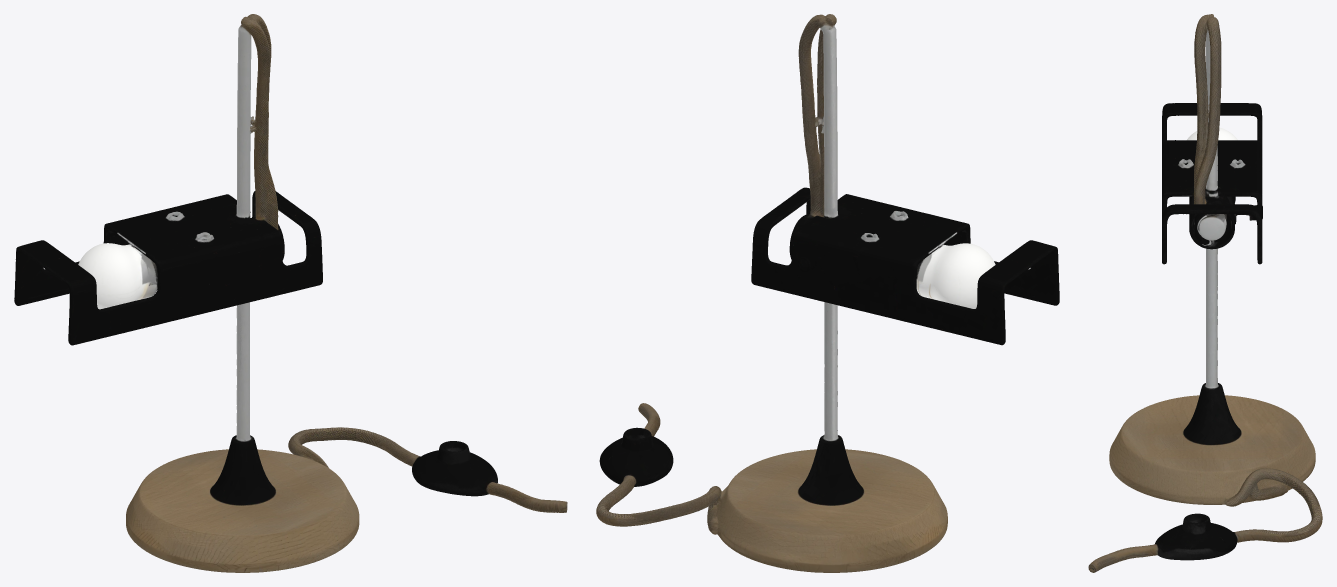
File: spider.glb
The picture shows the model from 3 angles, left to right: view 1: azimuth 30°, elevation 25°; view 2: azimuth 150°, elevation 25°; view 3: azimuth 270°, elevation 25°; orthographic projection. The views are drawn at different scales.
Size of the model in its own units: 1.8 by 1.9 by 0.8945.
Materials: 1 (1 with a texture image).
